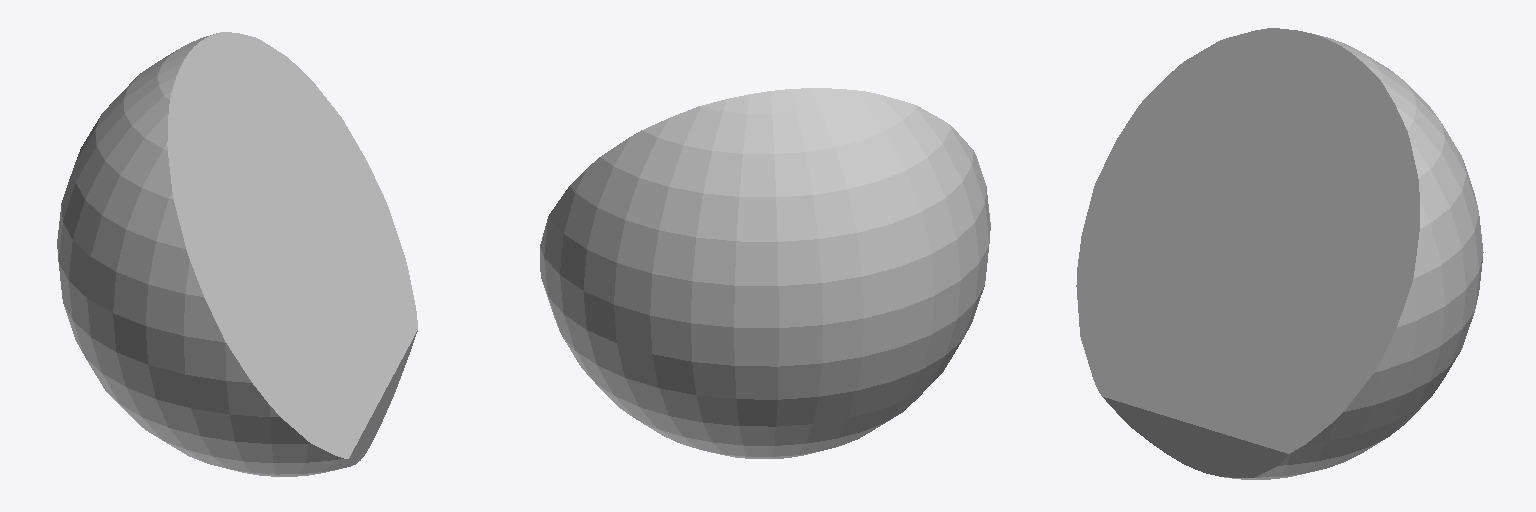
The model's file is vrag2Third1.obj.
The picture shows the model from 3 angles: view 1: azimuth 30°, elevation 25°; view 2: azimuth 150°, elevation 25°; view 3: azimuth 270°, elevation 25°; orthographic projection.
Parts seen in each view (by area): view 1: Sphere; view 2: Sphere; view 3: Sphere.
Part boxes in pixels (x1,y1,x2,y2): Sphere: (57,32,417,476); Sphere: (540,88,990,458); Sphere: (1076,28,1483,479).
Bounding box in the file's own units: 0.9183 × 0.9466 × 0.8947.